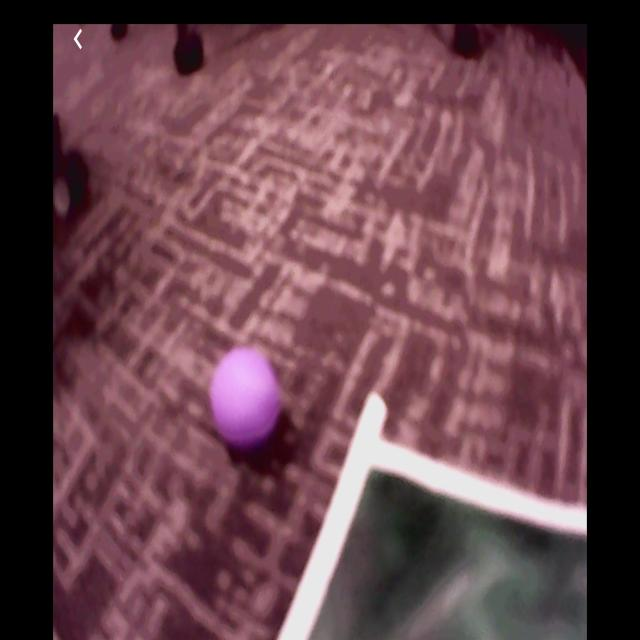ball: (208, 350, 282, 449)
